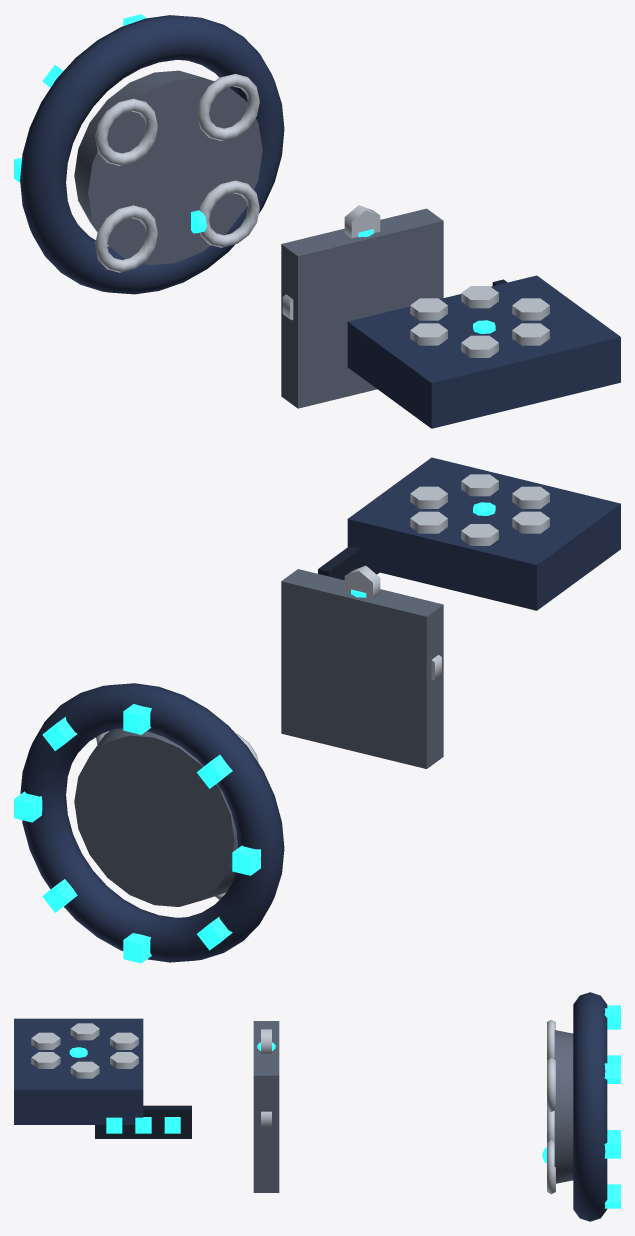
Rendered from tower_skywatch_damage_s6.glb.
The picture shows the model from 3 angles, top to bottom: view 1: azimuth 30°, elevation 25°; view 2: azimuth 150°, elevation 25°; view 3: azimuth 270°, elevation 25°; orthographic projection. The views are drawn at different scales.
Visible parts, largest first — view 1: skywatch_fuse_ring, skywatch_housing_armour, skywatch_fuse_collar, skywatch_barrel_clamp_b, skywatch_armour_bolts, skywatch_crown3, skywatch_crown2, skywatch_crown1, skywatch_crown0, skywatch_clamp_b_bolts; view 2: skywatch_fuse_ring, skywatch_barrel_clamp_b, skywatch_housing_armour, skywatch_fuse_collar, skywatch_armour_bolts, skywatch_clamp_b_bolts, skywatch_ammo_indicator, skywatch_fuse_node2, skywatch_fuse_node0, skywatch_fuse_node6, skywatch_fuse_node4; view 3: skywatch_housing_armour, skywatch_fuse_ring, skywatch_barrel_clamp_b, skywatch_fuse_collar, skywatch_armour_bolts, skywatch_ammo_indicator, skywatch_crown1, skywatch_clamp_b_bolts, skywatch_crown0, skywatch_fuse_node4, skywatch_fuse_node3, skywatch_fuse_node2.
Part boxes in pixels (x1,y1,x2,y2): skywatch_fuse_ring: (20, 15, 284, 294); skywatch_housing_armour: (347, 275, 620, 428); skywatch_fuse_collar: (74, 70, 262, 265); skywatch_barrel_clamp_b: (281, 208, 443, 408); skywatch_armour_bolts: (410, 286, 549, 357); skywatch_crown3: (95, 98, 157, 165); skywatch_crown2: (95, 205, 157, 272); skywatch_crown1: (197, 74, 259, 140); skywatch_crown0: (199, 180, 259, 247); skywatch_clamp_b_bolts: (282, 205, 380, 320); skywatch_fuse_ring: (20, 683, 284, 962); skywatch_barrel_clamp_b: (281, 569, 443, 768); skywatch_housing_armour: (347, 457, 620, 610); skywatch_fuse_collar: (74, 728, 238, 906); skywatch_armour_bolts: (410, 474, 549, 545); skywatch_clamp_b_bolts: (344, 565, 441, 680); skywatch_ammo_indicator: (318, 546, 379, 580); skywatch_fuse_node2: (123, 704, 151, 734); skywatch_fuse_node0: (232, 845, 260, 875); skywatch_fuse_node6: (123, 933, 151, 963); skywatch_fuse_node4: (14, 791, 42, 822); skywatch_housing_armour: (14, 1018, 143, 1124); skywatch_fuse_ring: (573, 992, 607, 1221); skywatch_barrel_clamp_b: (253, 1021, 279, 1192); skywatch_fuse_collar: (554, 1030, 573, 1183); skywatch_armour_bolts: (31, 1023, 138, 1078); skywatch_ammo_indicator: (95, 1105, 191, 1138); skywatch_crown1: (547, 1058, 555, 1111); skywatch_clamp_b_bolts: (261, 1029, 271, 1127); skywatch_crown0: (547, 1140, 555, 1194); skywatch_fuse_node4: (604, 1137, 620, 1158); skywatch_fuse_node3: (604, 1063, 620, 1083); skywatch_fuse_node2: (604, 1008, 620, 1029).
Bounding box in the file's own units: 0.71 × 0.71 × 1.88.
